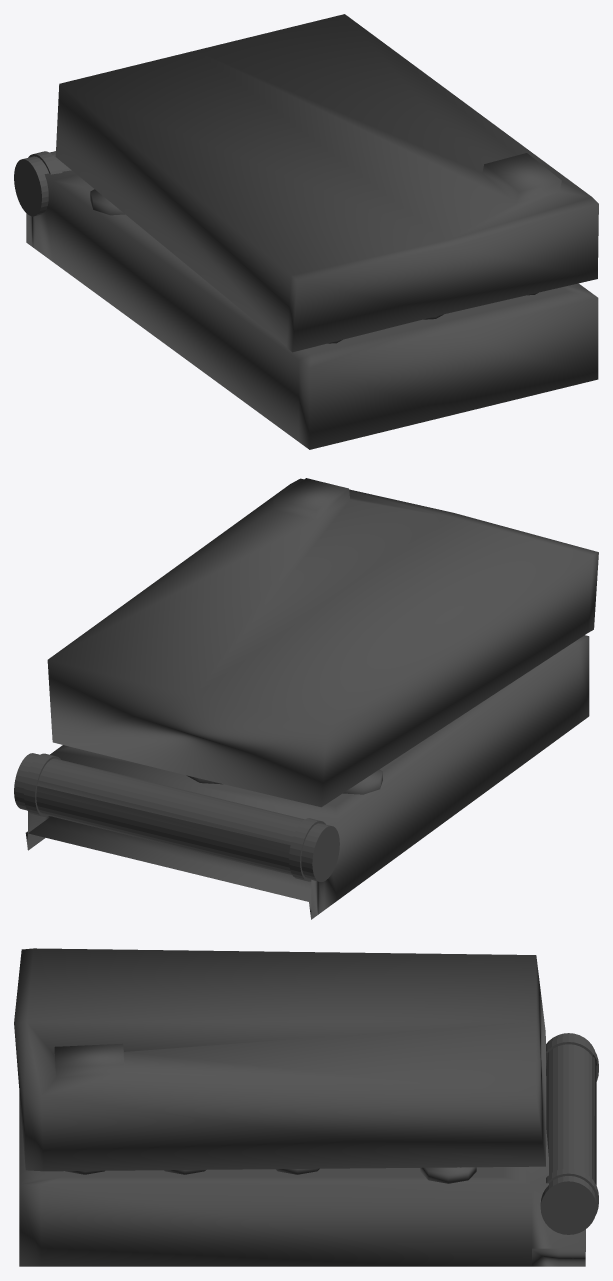
Rendered from flip_phone.glb.
3 renders of one model, top to bottom at view 1: azimuth 30°, elevation 25°; view 2: azimuth 150°, elevation 25°; view 3: azimuth 270°, elevation 25°, orthographic.
Parts seen in each view (by area): view 1: flip-phone-screen, flip-phone-console; view 2: flip-phone-screen, flip-phone-console; view 3: flip-phone-screen, flip-phone-console.
Part boxes in pixels (x1,y1,x2,y2): flip-phone-screen: (55,14,598,352); flip-phone-console: (14,151,598,449); flip-phone-screen: (47,478,598,807); flip-phone-console: (14,635,589,919); flip-phone-screen: (14,948,546,1171); flip-phone-console: (19,1033,598,1266).
Bounding box in the file's own units: 0.0428 × 0.0256 × 0.0704.
1 material, 1 textured.
